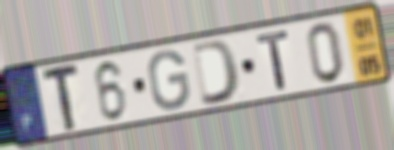0: (304, 19, 347, 87)
6: (92, 59, 130, 123)
D: (189, 37, 243, 109)
G: (146, 48, 193, 113)
T: (41, 60, 82, 135), (254, 28, 293, 93)
